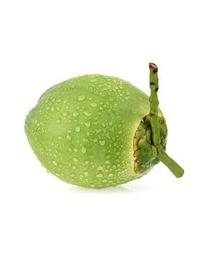coconut: (24, 74, 167, 189)
